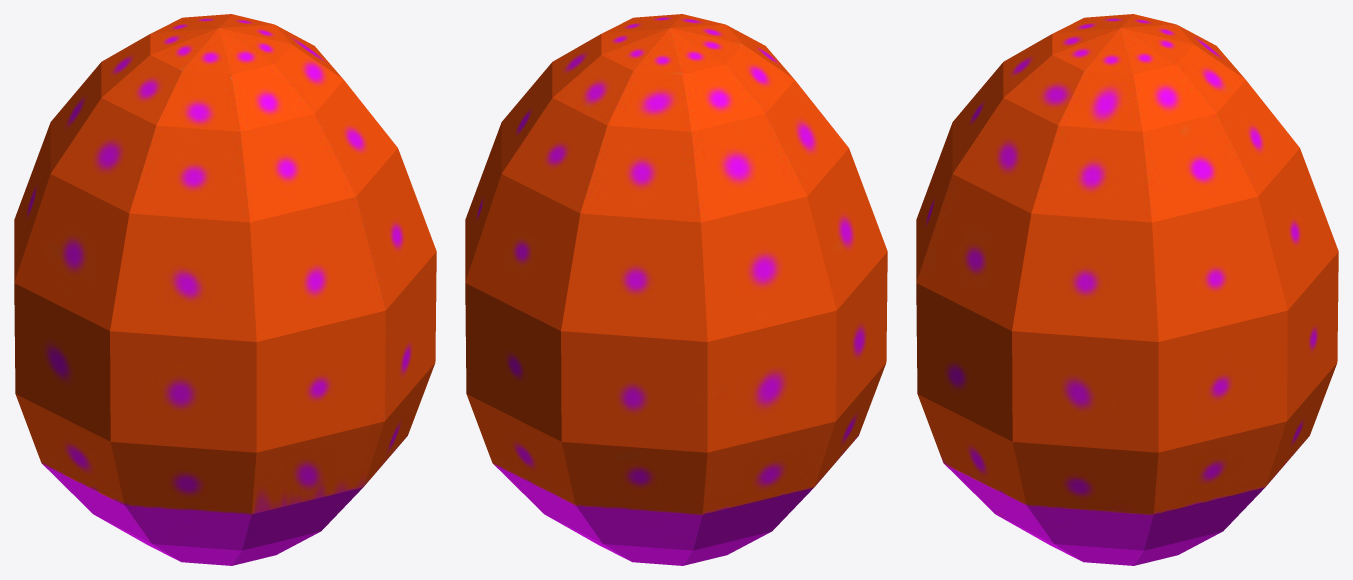
Rendered from egg_k1.glb.
3 views of the same model, side by side, from view 1: azimuth 30°, elevation 25°; view 2: azimuth 150°, elevation 25°; view 3: azimuth 270°, elevation 25° (orthographic).
Parts seen in each view (by area): view 1: Ei; view 2: Ei; view 3: Ei.
Part boxes in pixels (box(x1,y1,x2,y2)): Ei: box(14, 14, 436, 565); Ei: box(465, 14, 887, 565); Ei: box(916, 14, 1338, 565).
Size of the model in its own units: 0.3486 by 0.4649 by 0.3433.
Materials: 1 (1 with a texture image).
